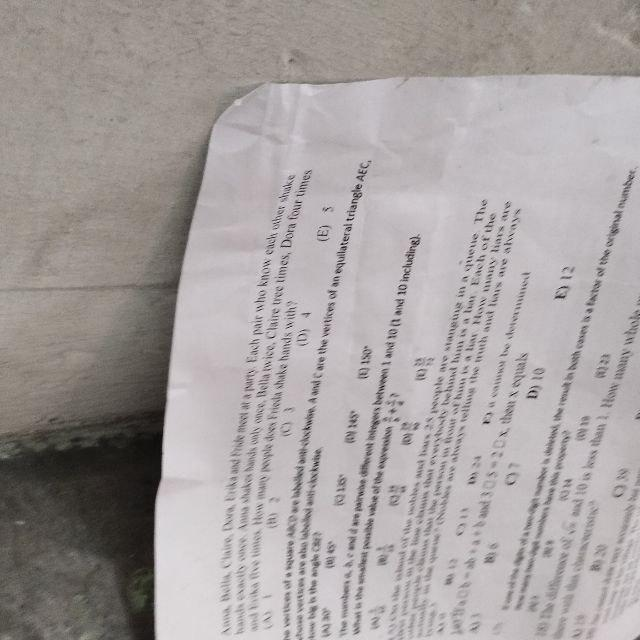paper: (130, 47, 640, 640)
